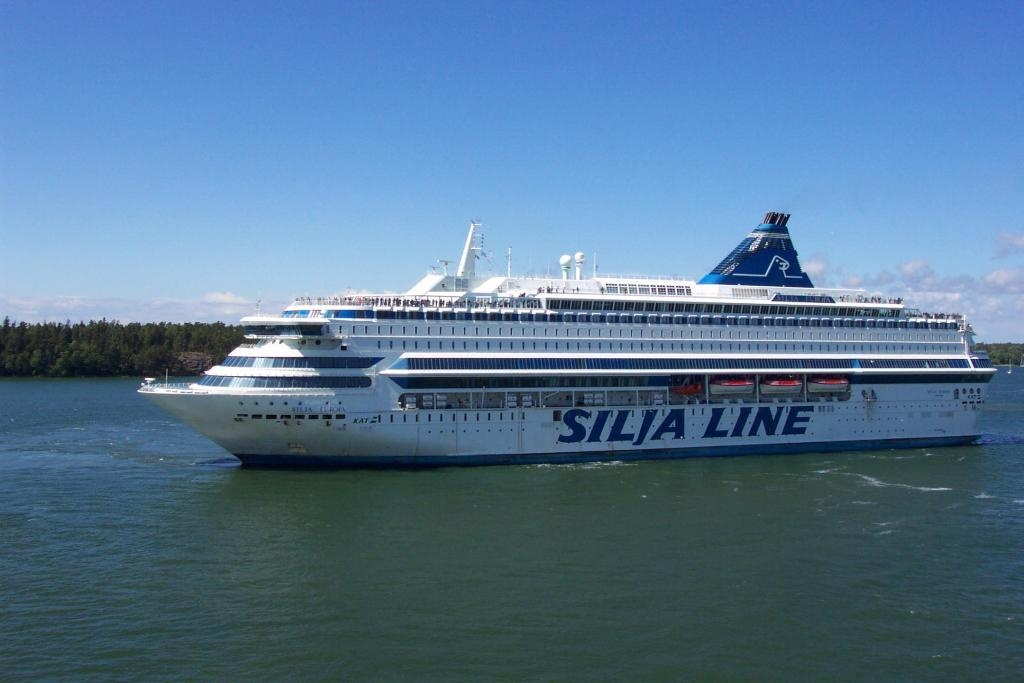youlun: (134, 210, 999, 471)
